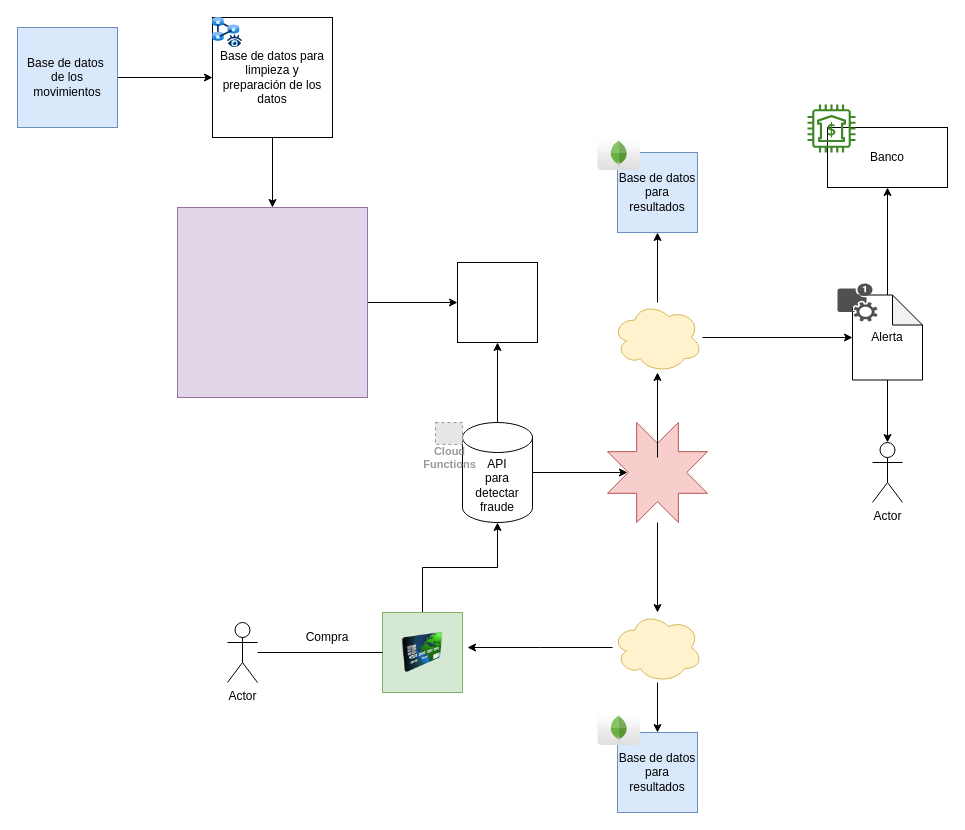
This 965x830 diagram has some shape labels left out. Grey dashed boxes stand in for pictures. Each missing label, with the centre of its shape:
"Componente para entrenar a la maquina con algoritmos de prediccion" belongs at [272,302].
"modelo de prediccion" belongs at [497,302].
"No" belongs at [657,647].
"Si" belongs at [657,337].
"¿es fraude?" belongs at [657,472].
